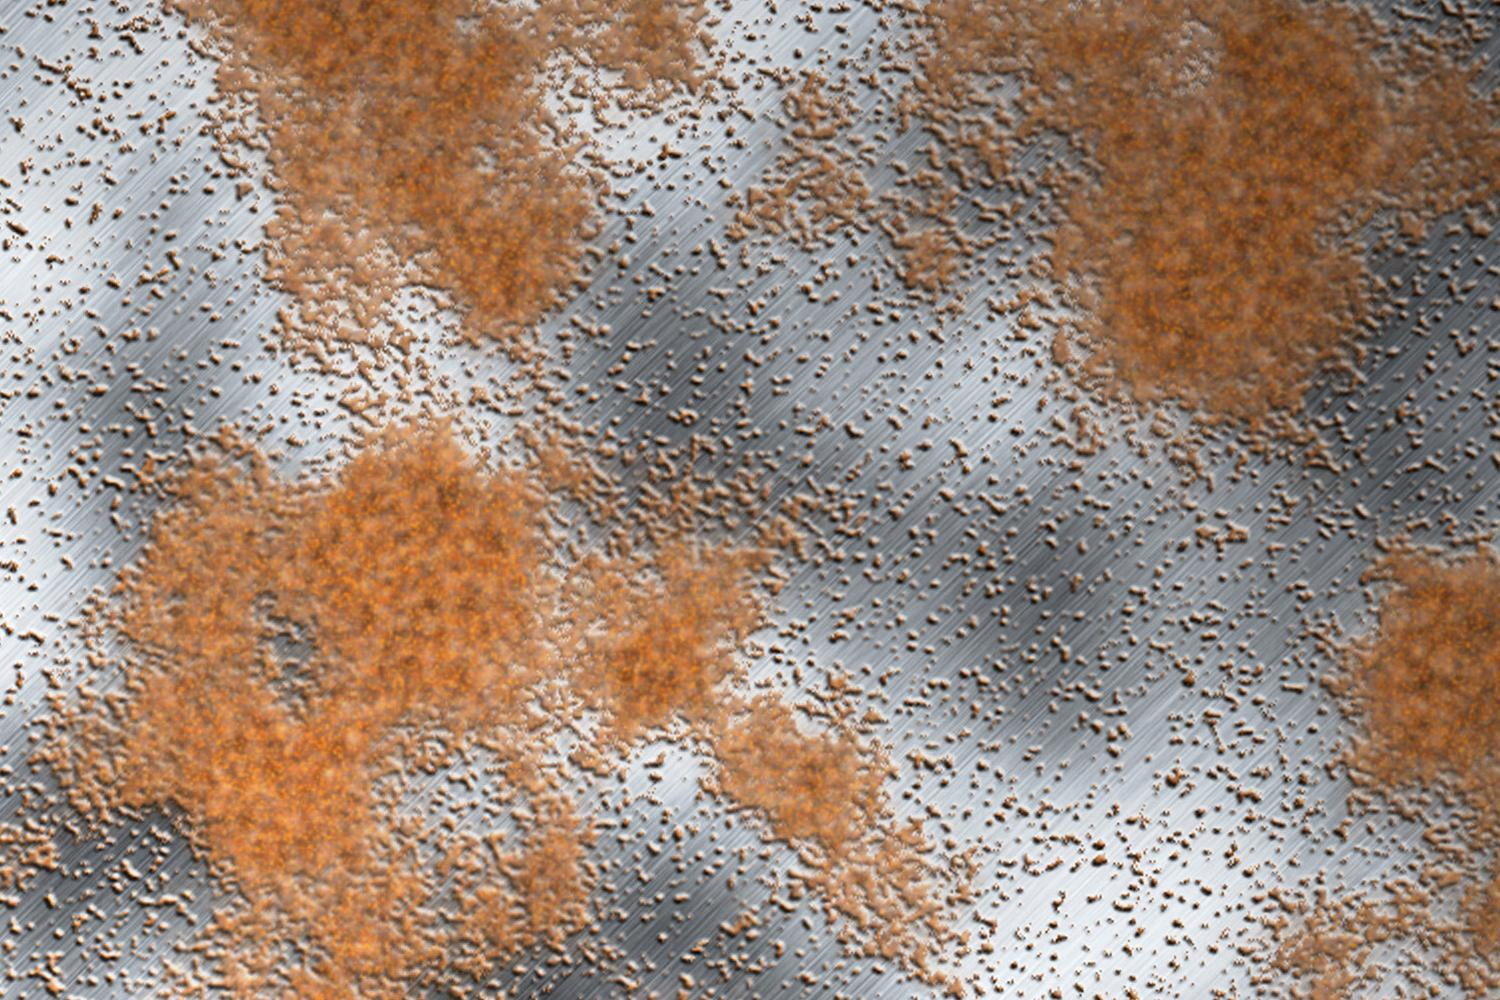rust: (15, 423, 961, 977), (905, 8, 1490, 421), (175, 13, 672, 360), (1320, 521, 1500, 838)
